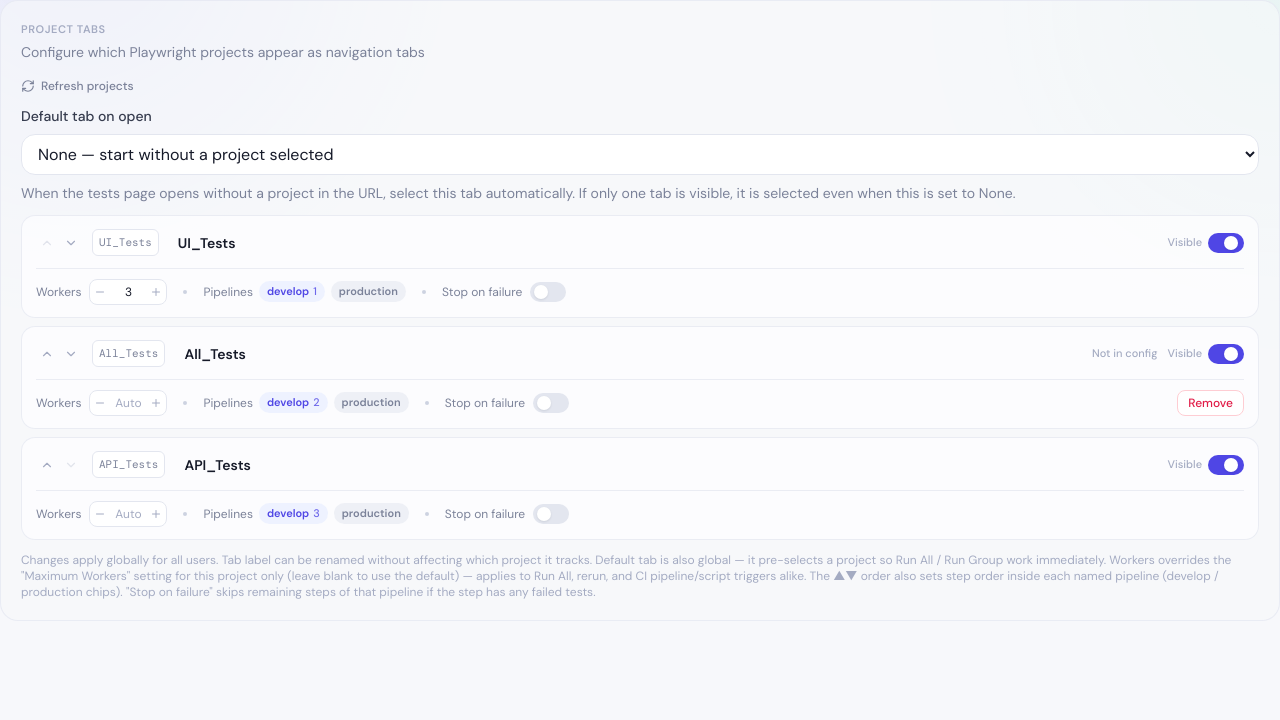
Test: SettingsProjectTabsSection - removing stale tabs › Confirm saves the list without the removed tab and drops its row
Click the button with aria-label "Remove stale tab All_Tests" at coordinates (1211, 402), box [1177,390,1244,416]
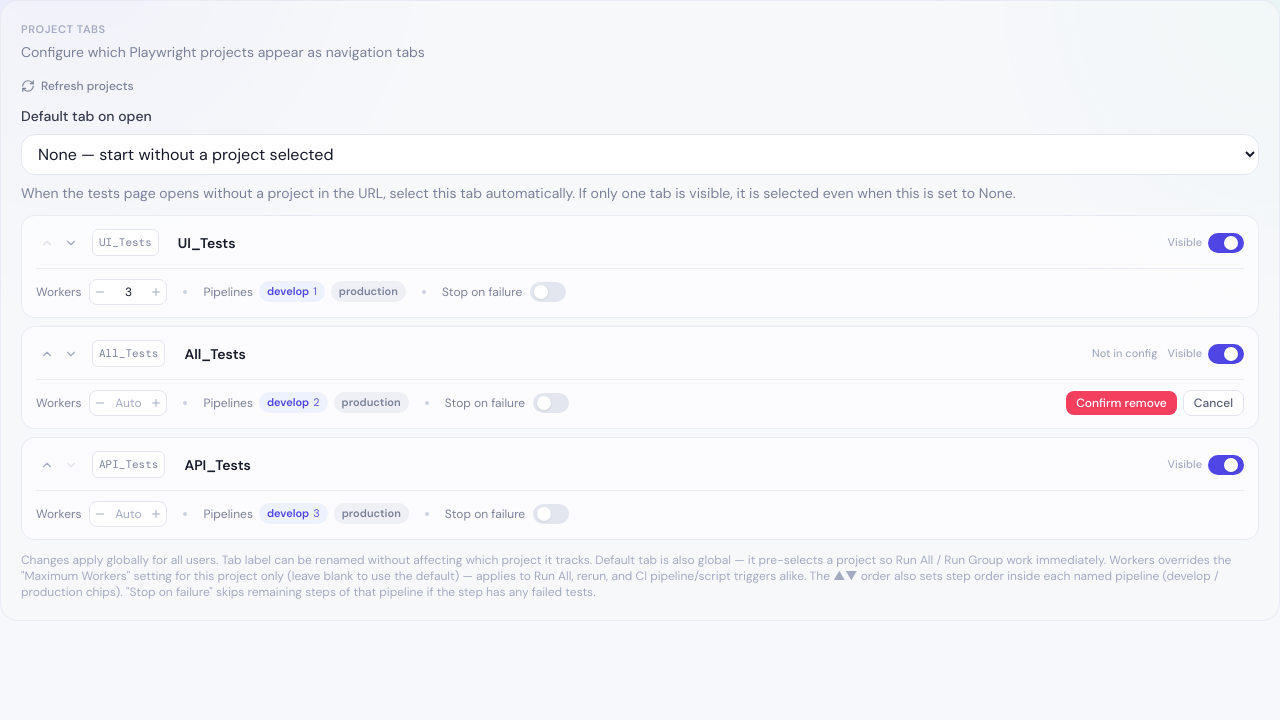
Click the button with aria-label "Confirm remove All_Tests" at coordinates (1121, 402), box [1066,390,1177,414]
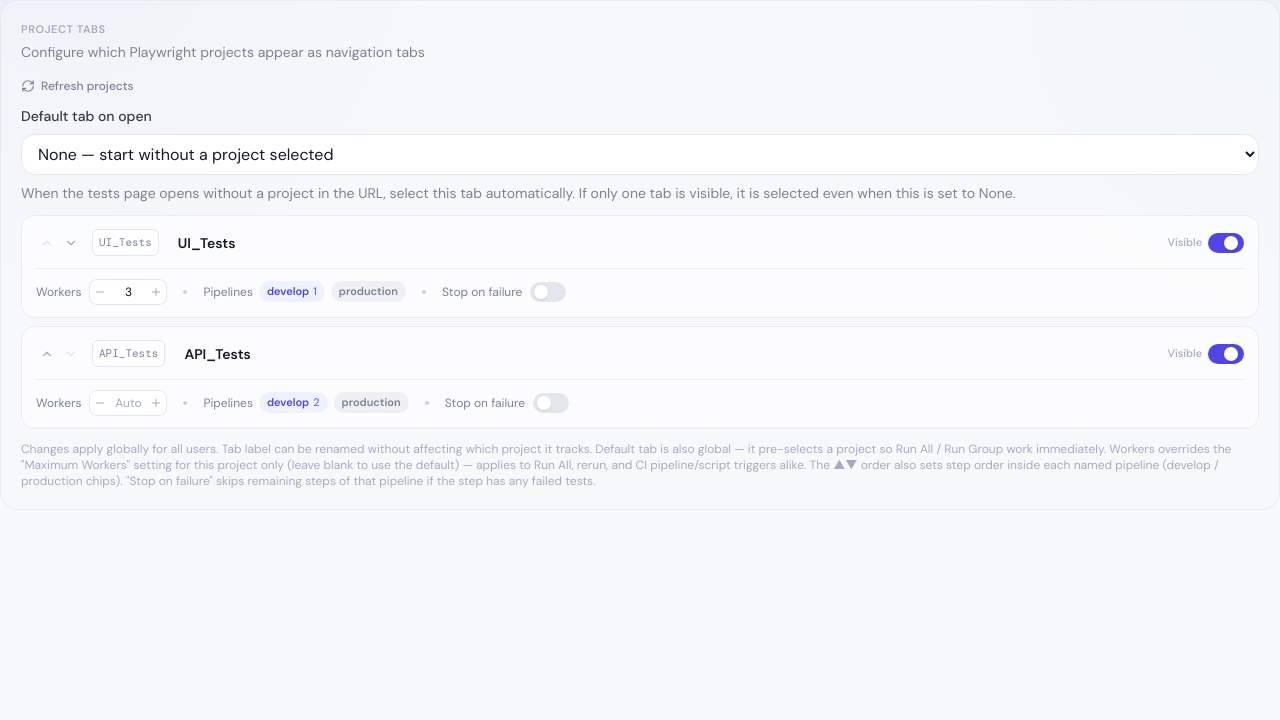
Check: the text showing "All_Tests" is gone
